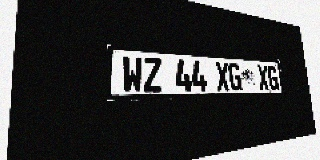4: (175, 59, 192, 92), (191, 60, 207, 91)
G: (228, 63, 242, 91), (267, 66, 279, 90)
W: (122, 56, 143, 93)
X: (215, 62, 230, 91), (257, 65, 270, 90)
Z: (143, 57, 163, 92)
